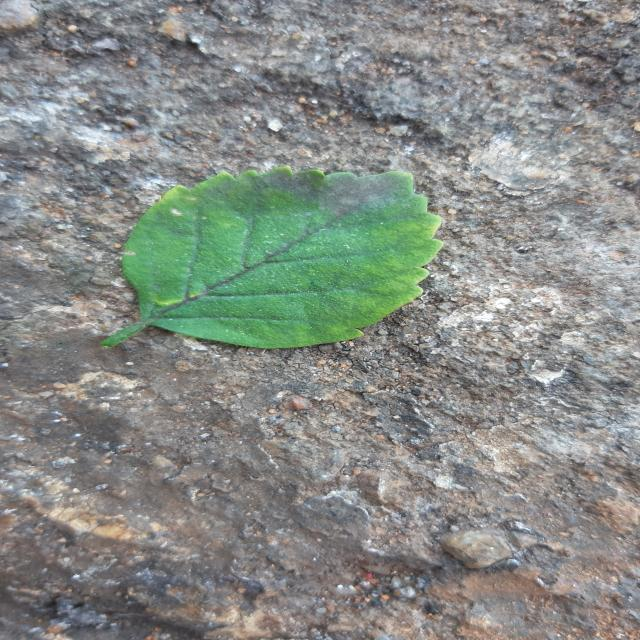defectedtecoma: (122, 166, 442, 320)
tecoma: (100, 166, 442, 349)
